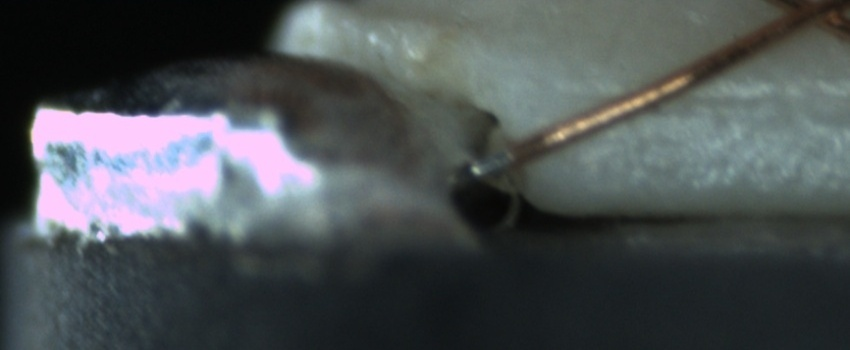CL: (766, 1, 844, 32)
DL: (571, 66, 840, 132)
TS: (460, 146, 511, 182)
